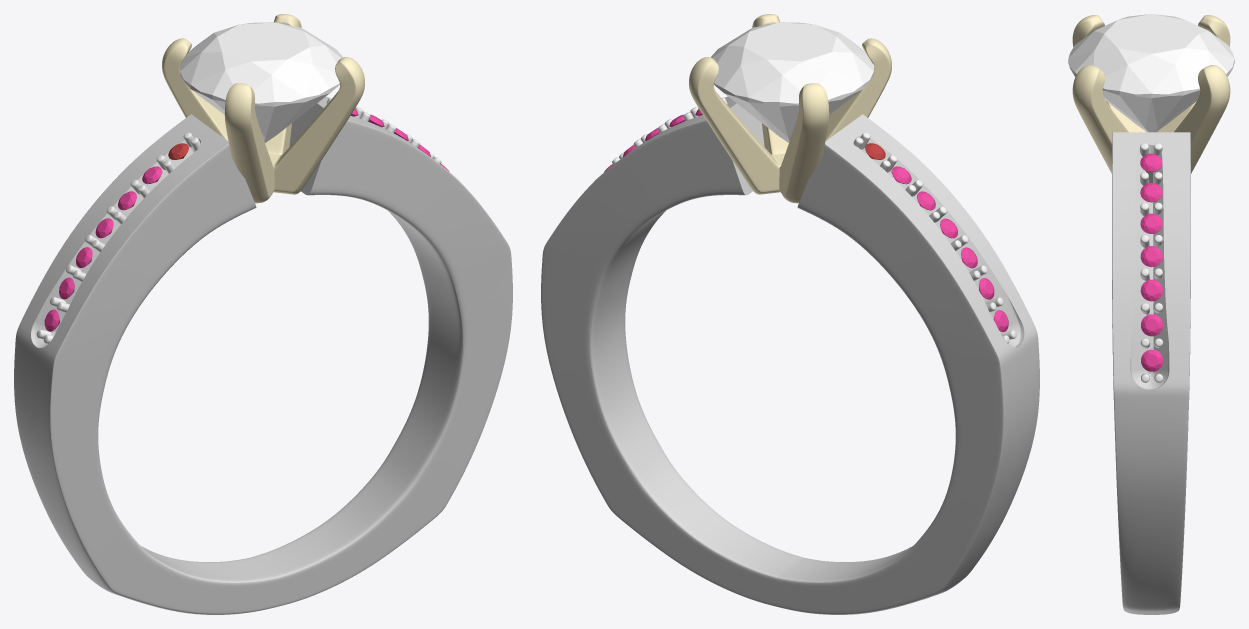
The model's file is puzzle_4.glb.
3 renders of one model, left to right at view 1: azimuth 30°, elevation 25°; view 2: azimuth 150°, elevation 25°; view 3: azimuth 270°, elevation 25°, orthographic.
Parts seen in each view (by area): view 1: G2_Obj_2_Gold2, G2_Obj_32_Dia_X, G2_Obj_1_Gold1; view 2: G2_Obj_2_Gold2, G2_Obj_32_Dia_X, G2_Obj_1_Gold1; view 3: G2_Obj_2_Gold2, G2_Obj_32_Dia_X, G2_Obj_1_Gold1, G1_Obj_25_Gem6, G1_Obj_26_Gem6, G1_Obj_27_Gem6, G1_Obj_28_Gem6, G1_Obj_29_Gem6, G1_Obj_30_Gem6, G1_Obj_31_Gem6.
Part boxes in pixels (box(x1,y1,x2,y2)): G2_Obj_2_Gold2: box(14, 96, 512, 614); G2_Obj_32_Dia_X: box(179, 22, 342, 142); G2_Obj_1_Gold1: box(162, 14, 364, 203); G2_Obj_2_Gold2: box(541, 96, 1039, 614); G2_Obj_32_Dia_X: box(711, 22, 874, 142); G2_Obj_1_Gold1: box(689, 14, 891, 203); G2_Obj_2_Gold2: box(1112, 131, 1190, 614); G2_Obj_32_Dia_X: box(1068, 14, 1234, 132); G2_Obj_1_Gold1: box(1072, 15, 1230, 173); G1_Obj_25_Gem6: box(1141, 349, 1163, 371); G1_Obj_26_Gem6: box(1141, 314, 1162, 336); G1_Obj_27_Gem6: box(1140, 279, 1162, 301); G1_Obj_28_Gem6: box(1140, 246, 1162, 267); G1_Obj_29_Gem6: box(1140, 213, 1162, 233); G1_Obj_30_Gem6: box(1140, 183, 1162, 202); G1_Obj_31_Gem6: box(1140, 153, 1162, 171).
Size of the model in its own units: 2.13 by 2.46 by 0.67.
